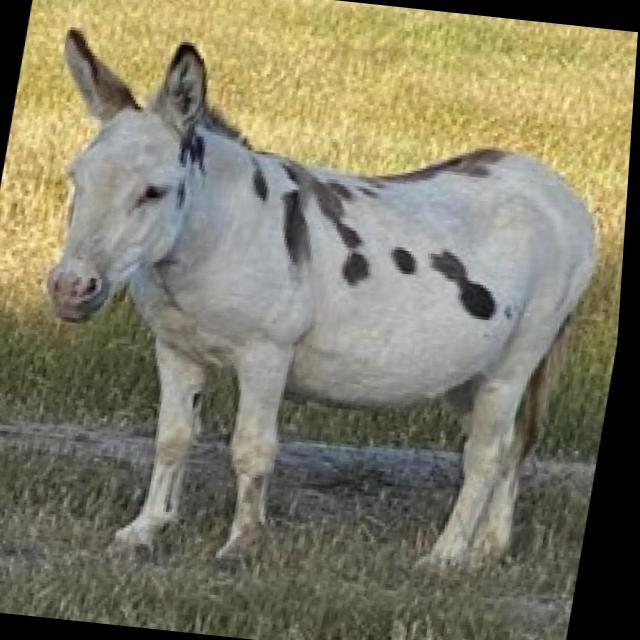Donkey: (0, 23, 639, 609)
